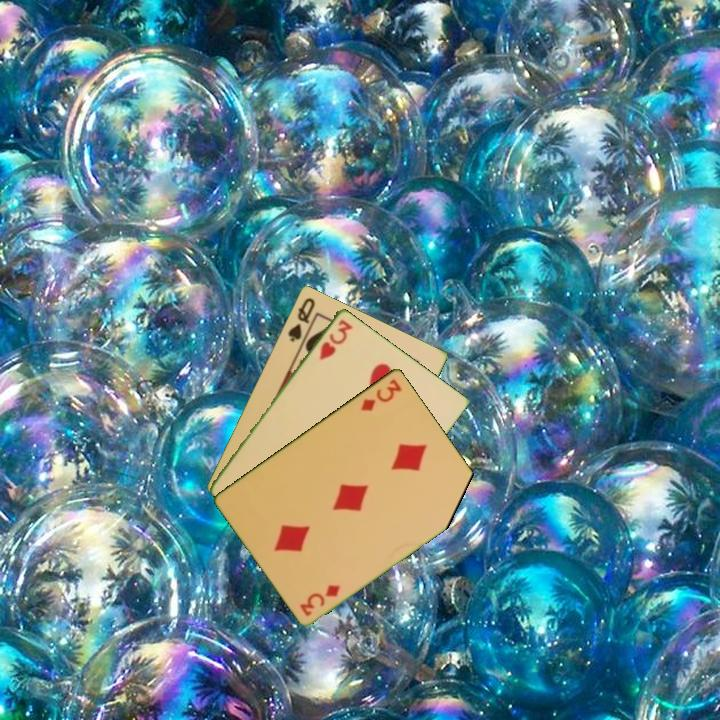3d: (357, 375, 405, 414), (296, 580, 344, 619)
3h: (315, 315, 356, 362)
Qs: (284, 293, 318, 345)
